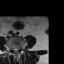CCS_normal: (15, 46, 17, 54)
LFS_stenosis: (18, 46, 20, 51)
LLS_stenosis: (17, 46, 18, 52)
RFS_stenosis: (11, 46, 13, 51)
RLS_stenosis: (13, 46, 15, 52)
